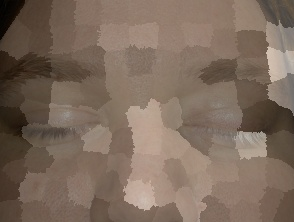vitiligo: (0, 46, 120, 185), (157, 63, 294, 171)
